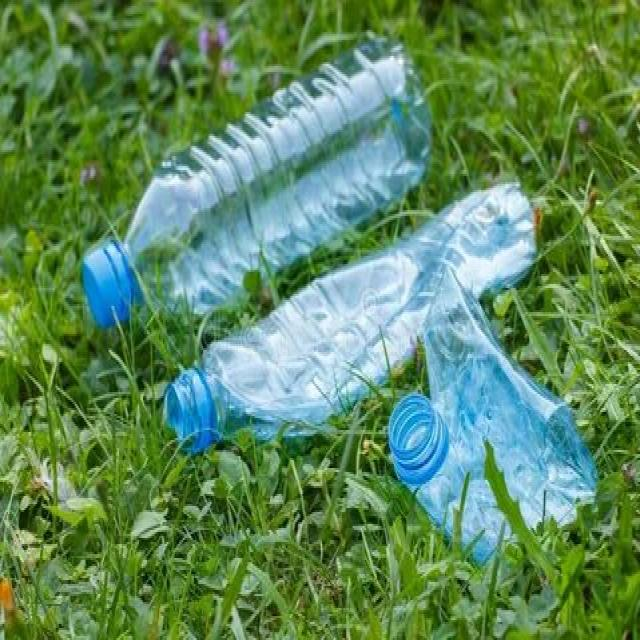blue: (201, 178, 538, 437), (128, 28, 430, 315), (389, 266, 598, 566)
